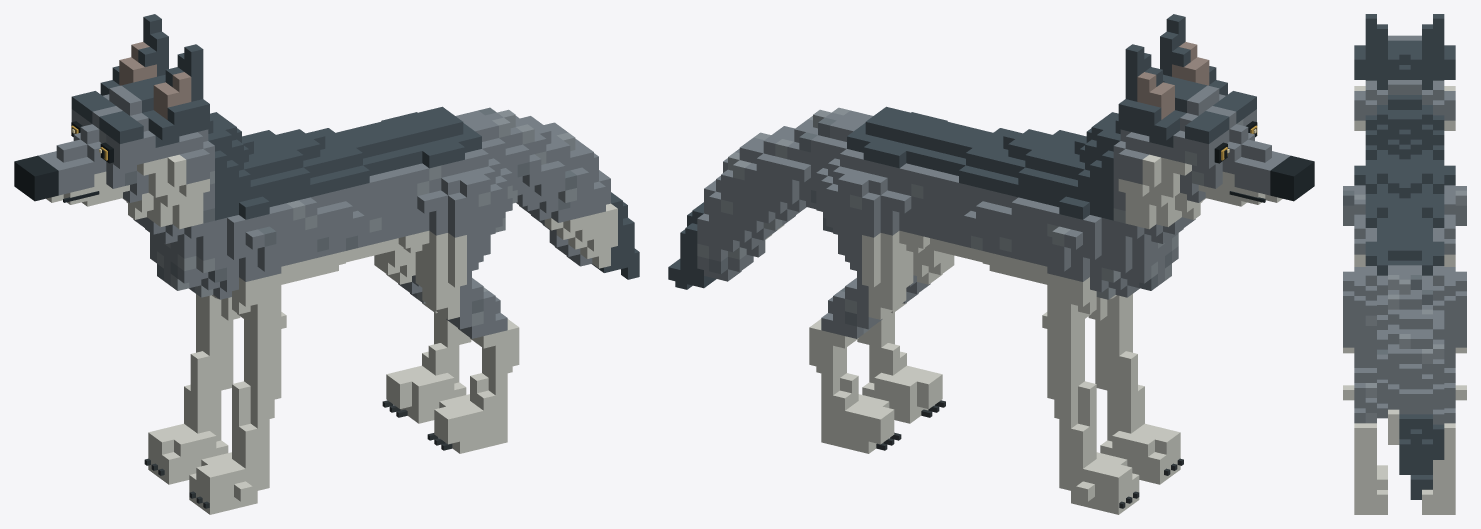
The model's file is Wolf.glb.
3 renders of one model, left to right at view 1: azimuth 30°, elevation 25°; view 2: azimuth 150°, elevation 25°; view 3: azimuth 270°, elevation 25°, orthographic. The views are drawn at different scales.
Visible parts, largest first — view 1: Pelagem e anatomia, Cauda, Patas, Orelhas, Nariz, Focinho; view 2: Pelagem e anatomia, Cauda, Patas, Orelhas, Nariz, Focinho; view 3: Pelagem e anatomia, Cauda, Orelhas, Patas.
Part boxes in pixels (x1,y1,x2,y2): Pelagem e anatomia: [38, 82, 519, 468]; Cauda: [455, 107, 639, 279]; Patas: [148, 365, 507, 514]; Orelhas: [100, 14, 209, 140]; Nariz: [14, 155, 58, 201]; Focinho: [46, 171, 129, 206]; Pelagem e anatomia: [809, 82, 1290, 468]; Cauda: [668, 107, 866, 289]; Patas: [821, 365, 1180, 514]; Orelhas: [1118, 14, 1227, 140]; Nariz: [1270, 155, 1314, 201]; Focinho: [1198, 171, 1282, 206]; Pelagem e anatomia: [1343, 35, 1466, 484]; Cauda: [1377, 265, 1444, 499]; Orelhas: [1354, 14, 1455, 79]; Patas: [1343, 385, 1466, 514].
Size of the model in its own units: 3.9 by 2.78 by 0.825.
